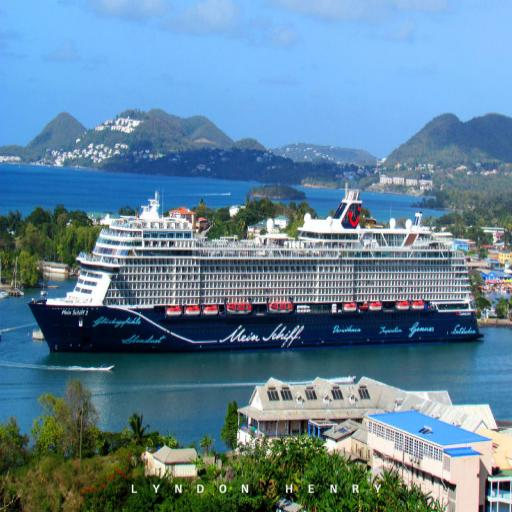cruises: (24, 193, 486, 350)
